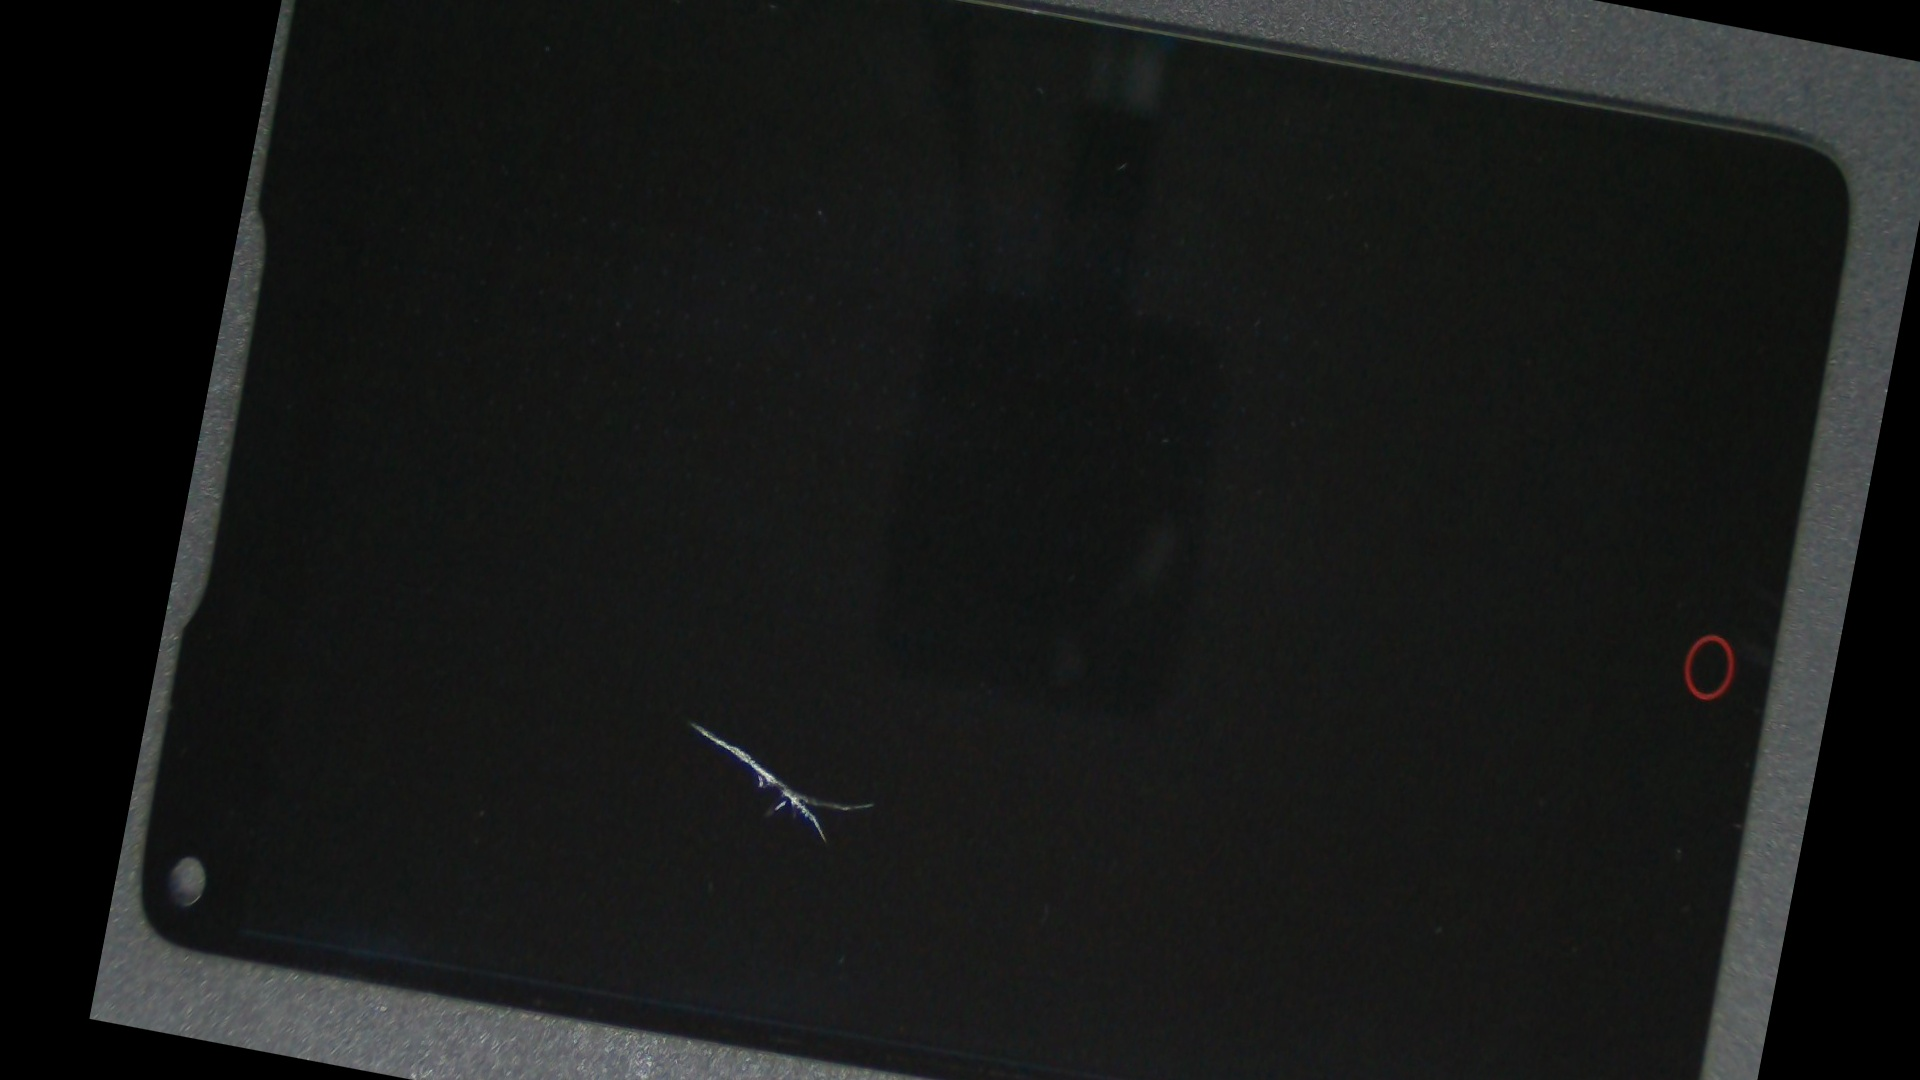oil: (352, 241, 1035, 1080)
